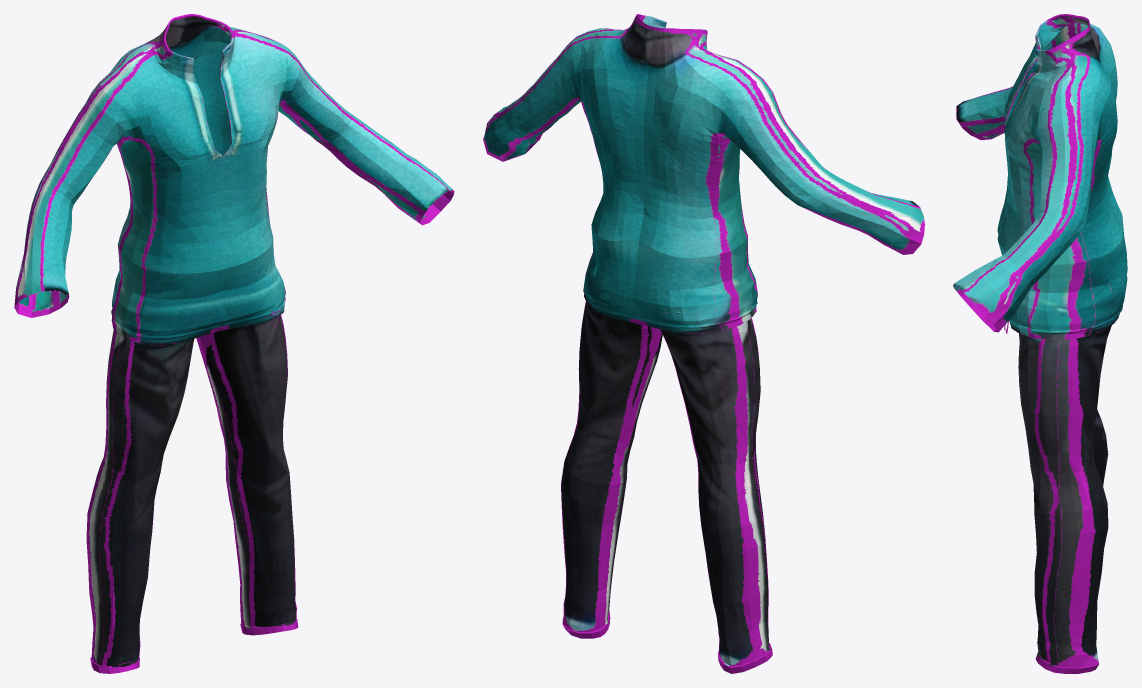
3 views of the same model, side by side, from view 1: azimuth 30°, elevation 25°; view 2: azimuth 150°, elevation 25°; view 3: azimuth 270°, elevation 25° (orthographic). The views are drawn at different scales.
Size of the model in its own units: 0.7068 by 0.9704 by 0.2509.
1 material, 1 textured.
